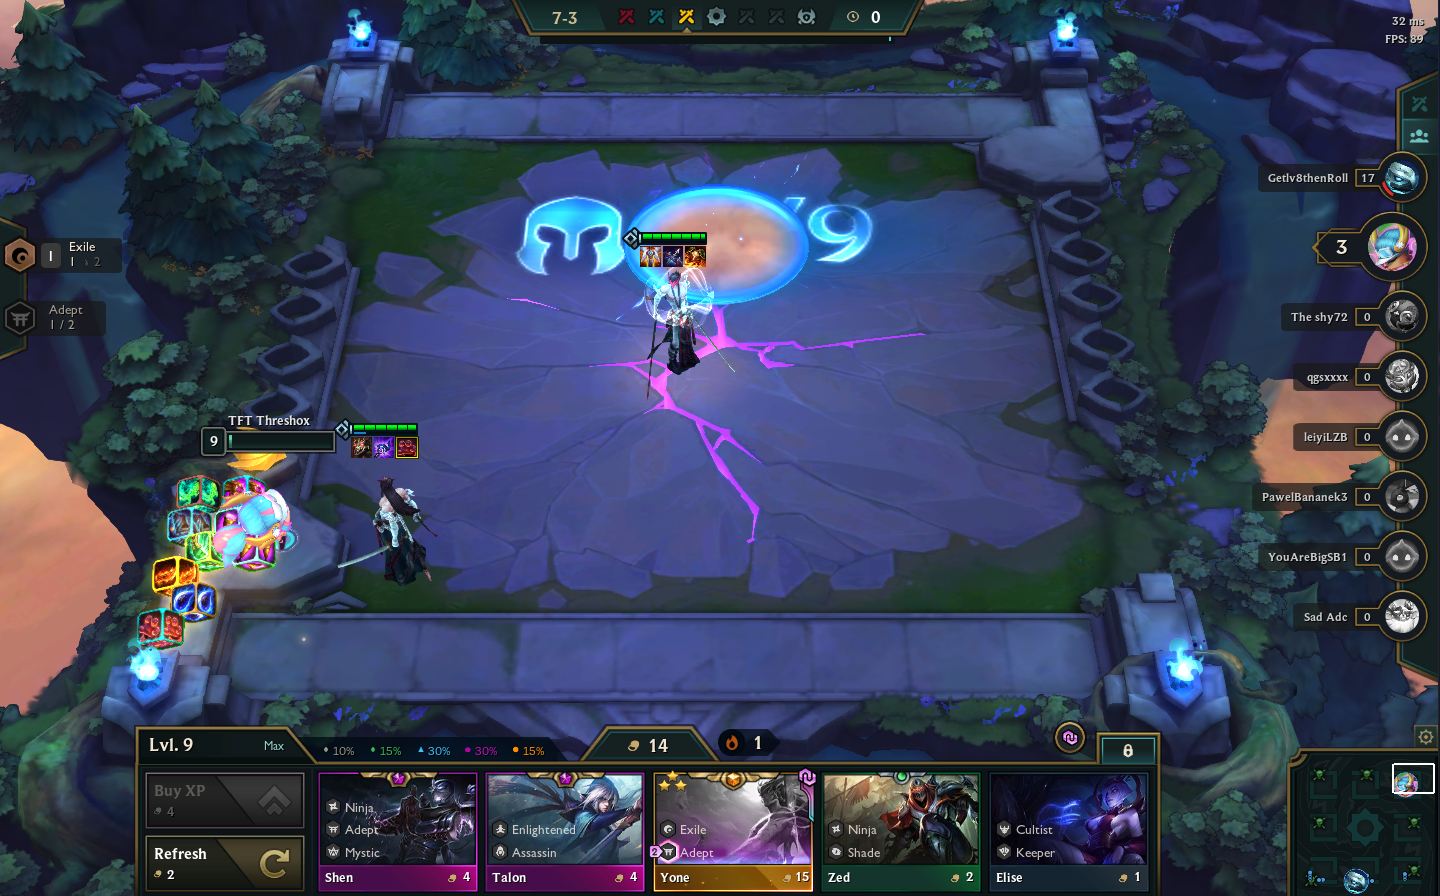2star_yone: (332, 411, 446, 593), (620, 217, 727, 403)
item_ga: (638, 241, 666, 271)
item_lastwhisper: (659, 242, 687, 270)
item_luden: (369, 430, 401, 462)
item_sunfire: (682, 242, 711, 270)
item_thief: (394, 431, 422, 462)
item_titan: (348, 431, 377, 462)
trait_adept1: (1, 295, 111, 339)
trait_exile1: (1, 230, 130, 278)
